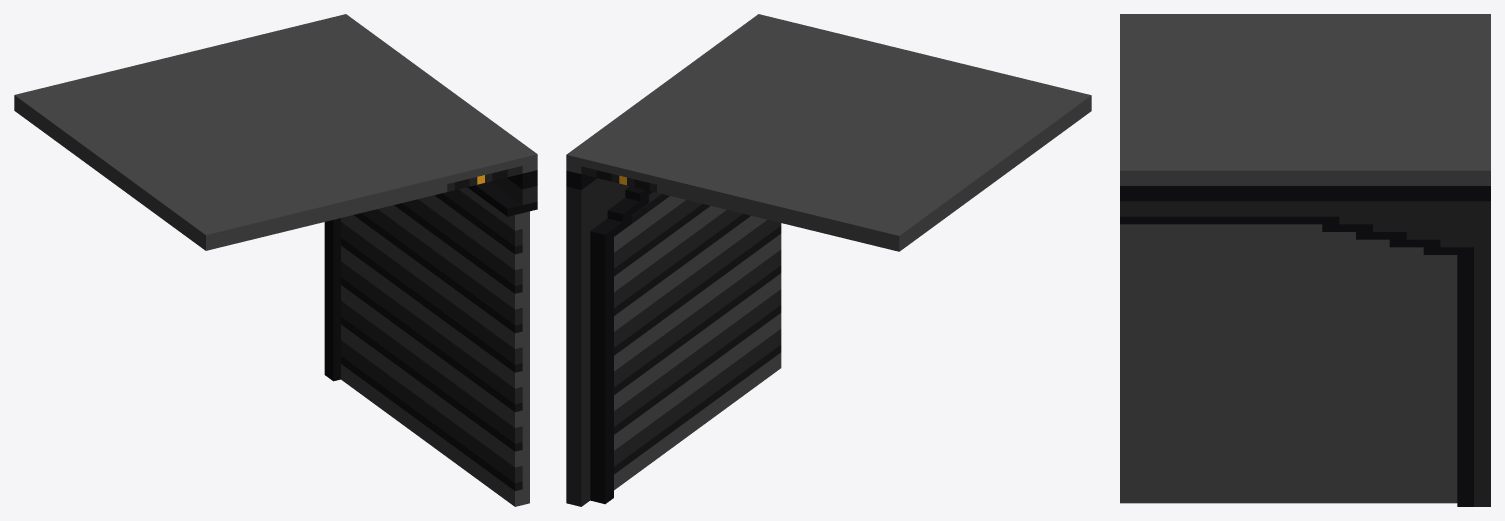
File: mesh_hanger_ship_door_top_left.obj
3 renders of one model, left to right at view 1: azimuth 30°, elevation 25°; view 2: azimuth 150°, elevation 25°; view 3: azimuth 270°, elevation 25°, orthographic. The views are drawn at different scales.
Size of the model in its own units: 4.4 by 4.4 by 4.4.
Materials: 1 (1 with a texture image).
